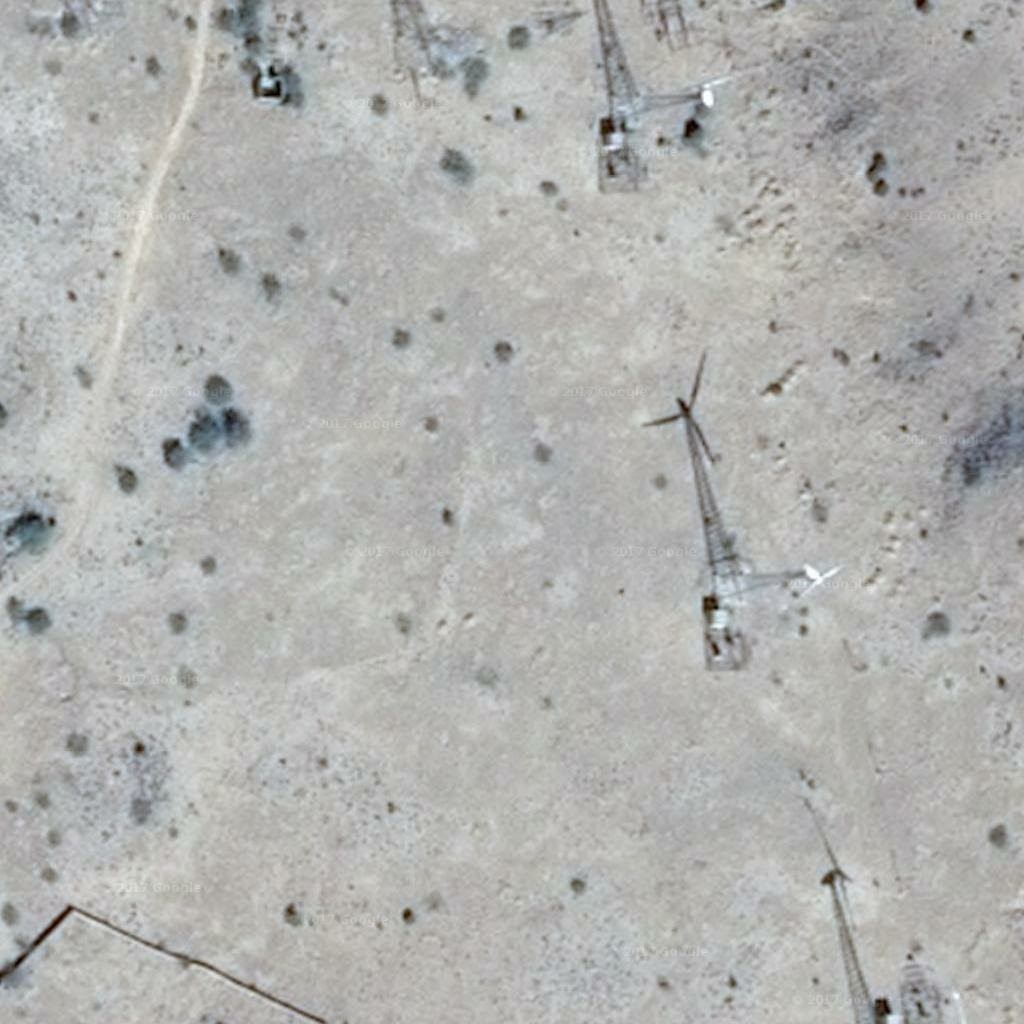Windmill: (639, 353, 749, 576)
